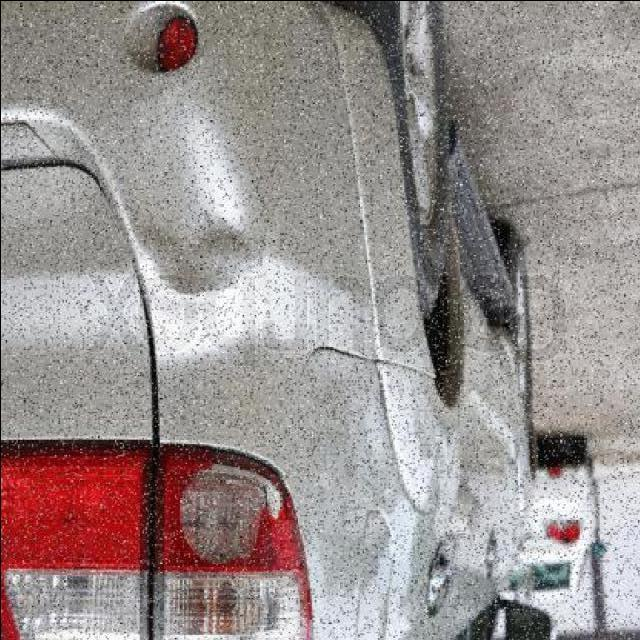rear-bumper-dent: (1, 1, 422, 361)
